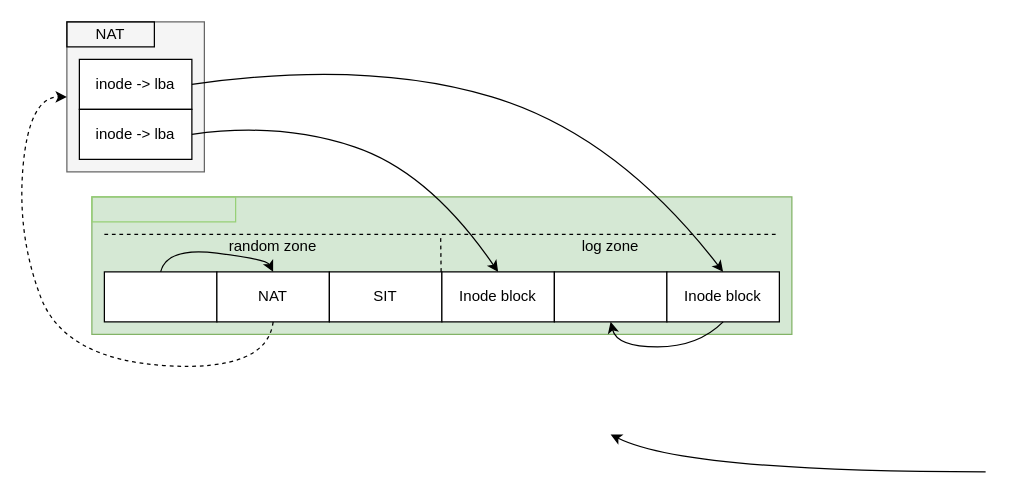
The diagram is 1009 pixels wide and 494 high, and some of its shapes have lost their labels. The shapes that lost their labels are listed below. From the top down, each one's centre as x and y in pixels, then its label:
(163,209): F2FS
(160,296): Checkpoint
(610,296): data
